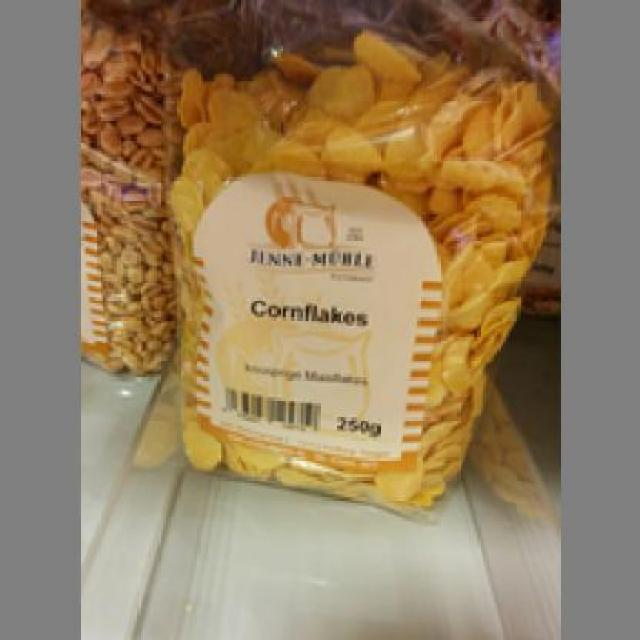Cereal: (137, 54, 554, 512)
